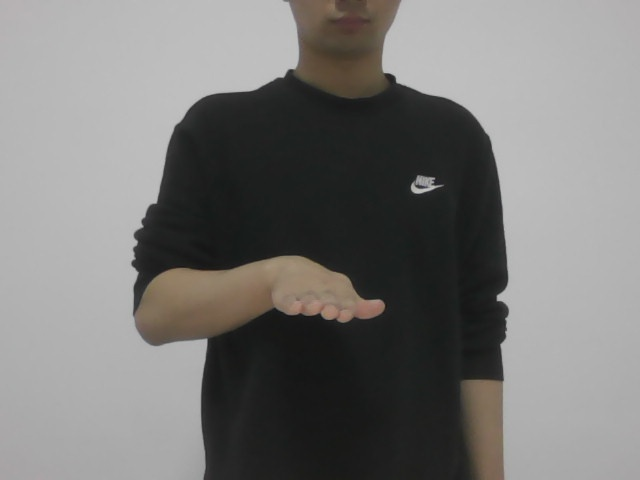slow: (263, 245, 389, 339)
